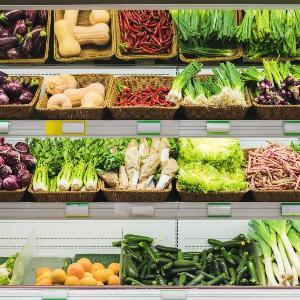apricot: (20, 240, 122, 288)
bell_pepper: (116, 4, 180, 60), (110, 72, 178, 107)
eggplant: (0, 1, 49, 69), (0, 72, 38, 102)
radish: (250, 64, 300, 116)
zucchini: (117, 233, 256, 283)
